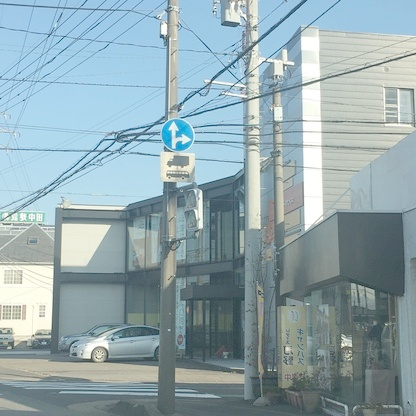Direction_sign: (157, 111, 198, 154)
